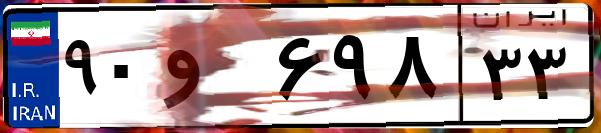0: (110, 28, 158, 98)
3: (475, 38, 525, 113), (525, 38, 570, 115)
6: (270, 28, 330, 110)
8: (385, 28, 445, 110)
9: (330, 28, 385, 110), (57, 26, 110, 100)
و: (158, 20, 270, 120)
